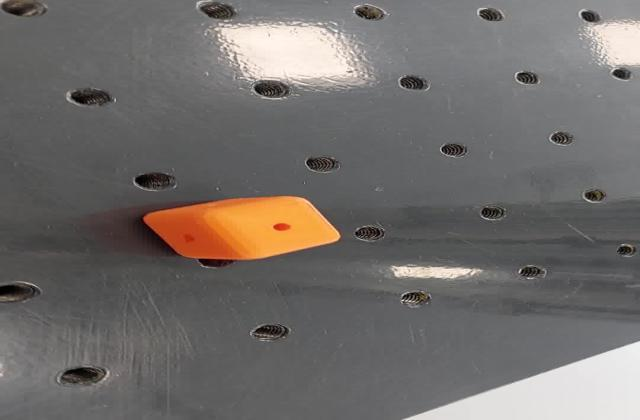cube: (134, 194, 350, 263)
